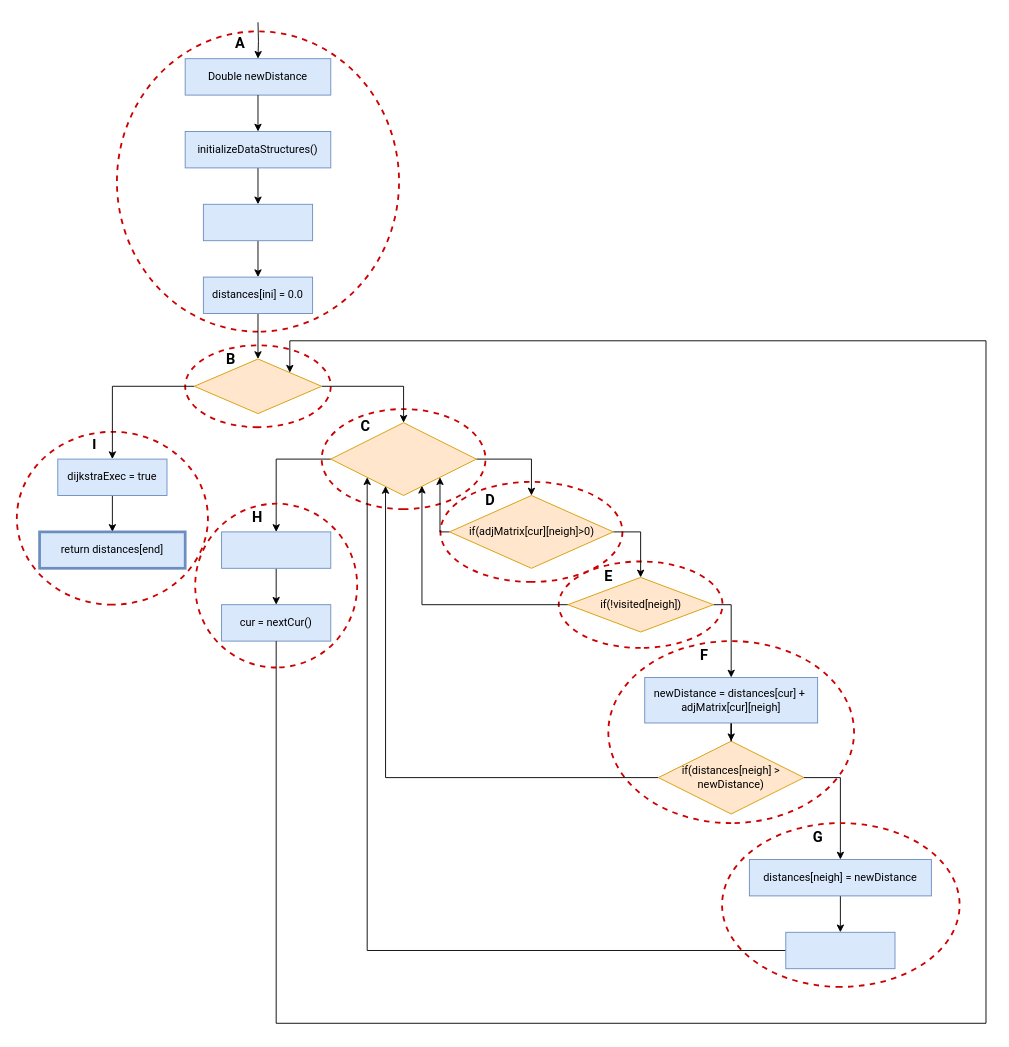
The diagram is 1009 pixels wide and 1047 high, and some of its shapes have lost their labels. The shapes that lost their labels are listed below. From the top down, each one's box as (x1, y1, x2, y2) in pixels, then its label:
(202, 203, 313, 241): Integer cur = ini
(193, 358, 322, 414): while(!visited[end])
(330, 422, 476, 495): for(int neigh=0; neigh<nVertices; neigh++)
(221, 531, 331, 568): visited[cur] = true
(785, 931, 895, 969): prev[neigh] = cur
